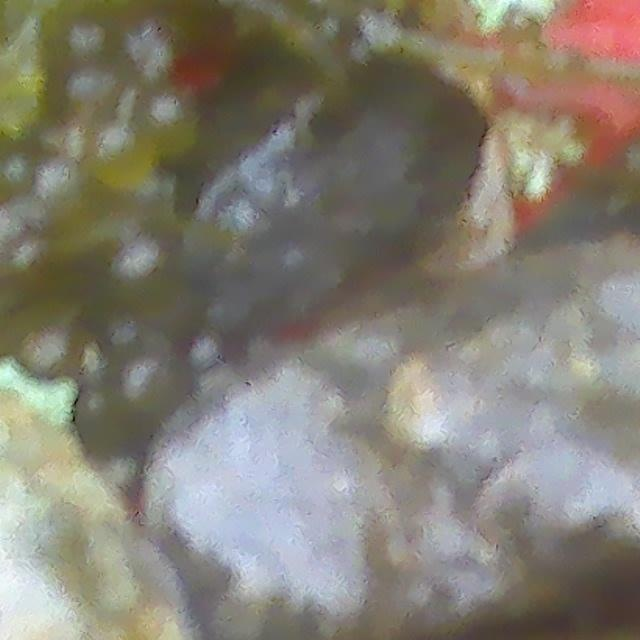SeaGrape: (108, 233, 184, 306), (118, 350, 192, 423), (22, 337, 85, 385)
